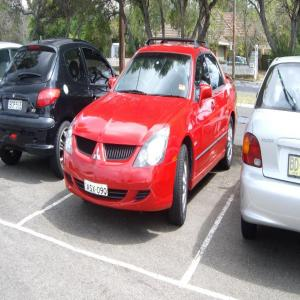Vehicle-registration-plate: (85, 181, 108, 197), (288, 156, 300, 180), (8, 100, 23, 112)
